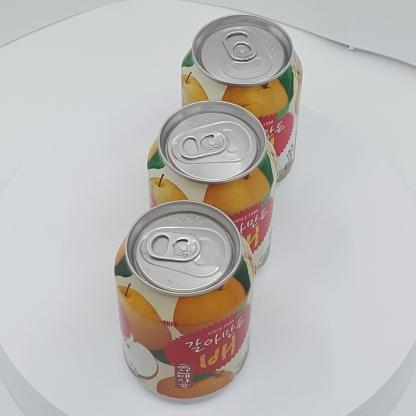-------238ML: (114, 200, 254, 400)
